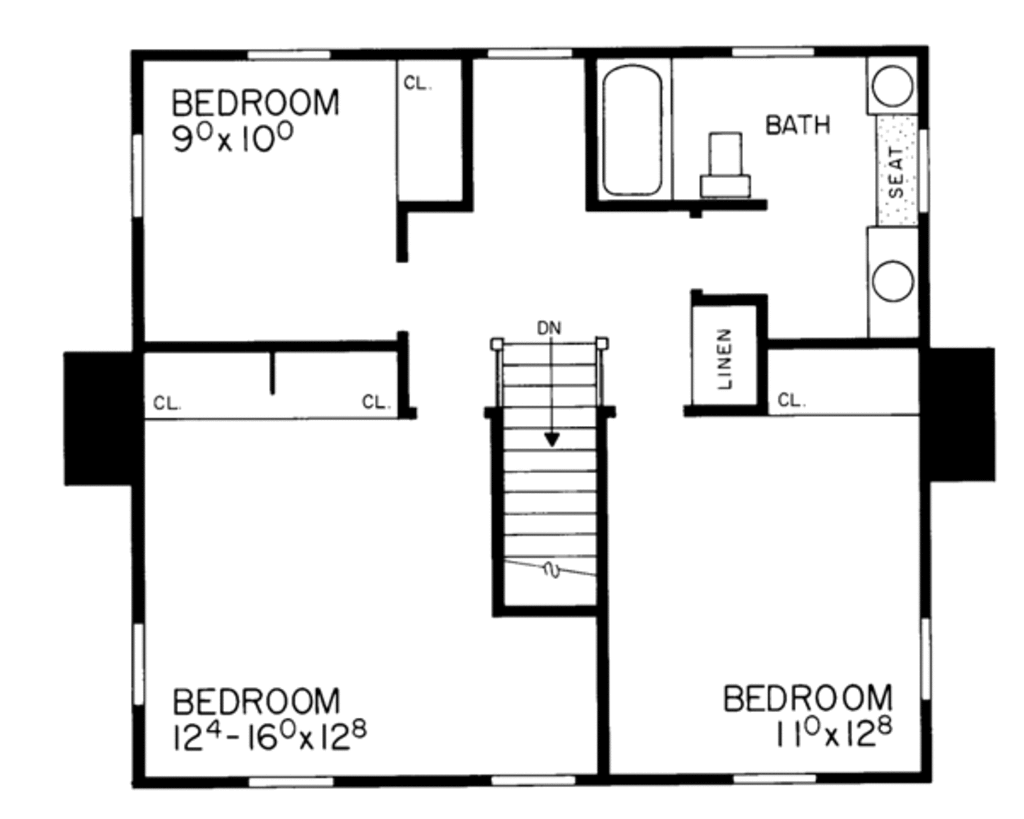large_sink: (688, 119, 758, 203)
small_sink: (864, 229, 924, 345)
stairs: (492, 319, 610, 617)
tub: (589, 49, 678, 215)
windows: (916, 611, 942, 705), (482, 40, 574, 66), (124, 128, 149, 222), (488, 769, 578, 791), (127, 618, 149, 705), (731, 768, 831, 787), (730, 42, 823, 62), (240, 44, 338, 62), (240, 774, 337, 791), (916, 125, 932, 215)
